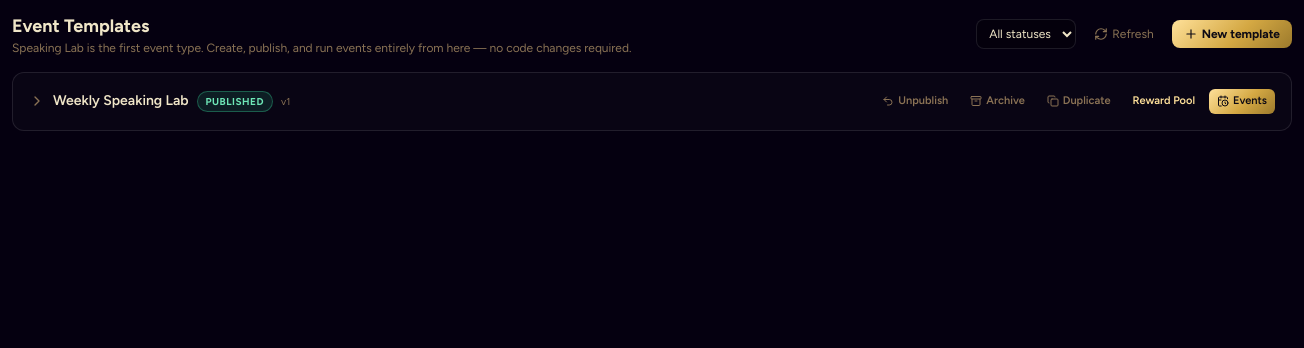
Test: entry-fee event row shows a plain entry-fee pool label
Click the button "Events" at x=1242, y=101, box [1209,89,1275,114]
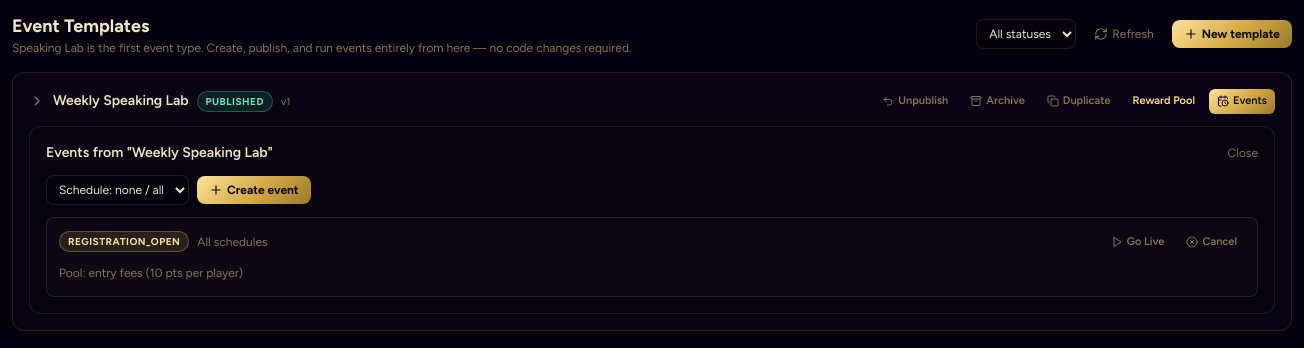
expect the text with test id "event-pool-evt-2" shows "entry fees (10 pts per player)": met, box [59,266,243,280]
